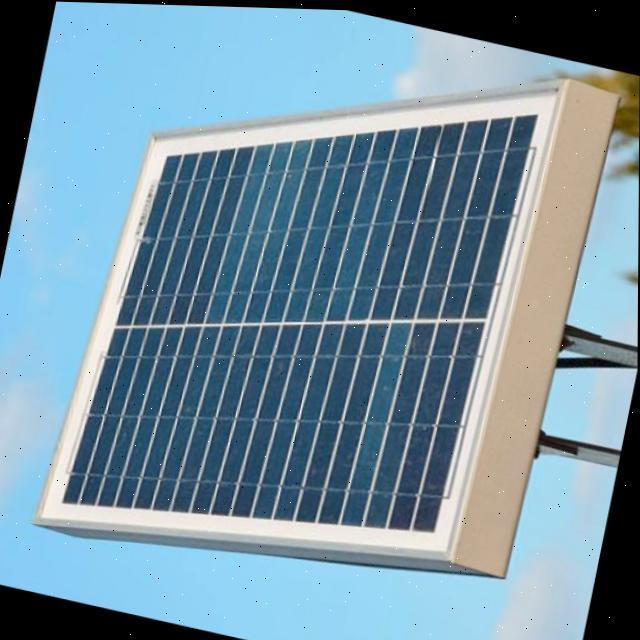Normal Solar Panel: (33, 1, 564, 619)
